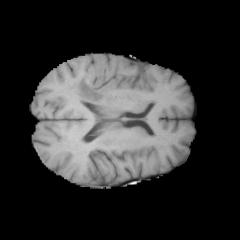glioma: (67, 55, 128, 104)
